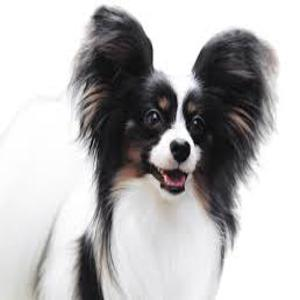yell: (23, 5, 275, 300)
